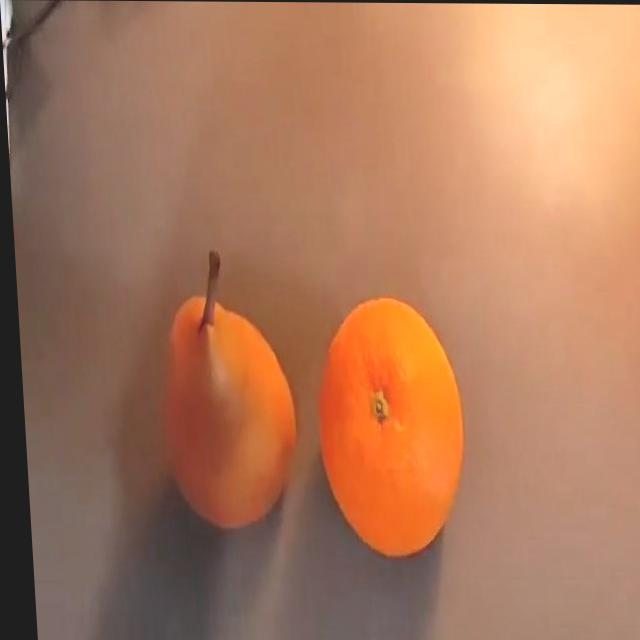Orange: (306, 295, 465, 559)
